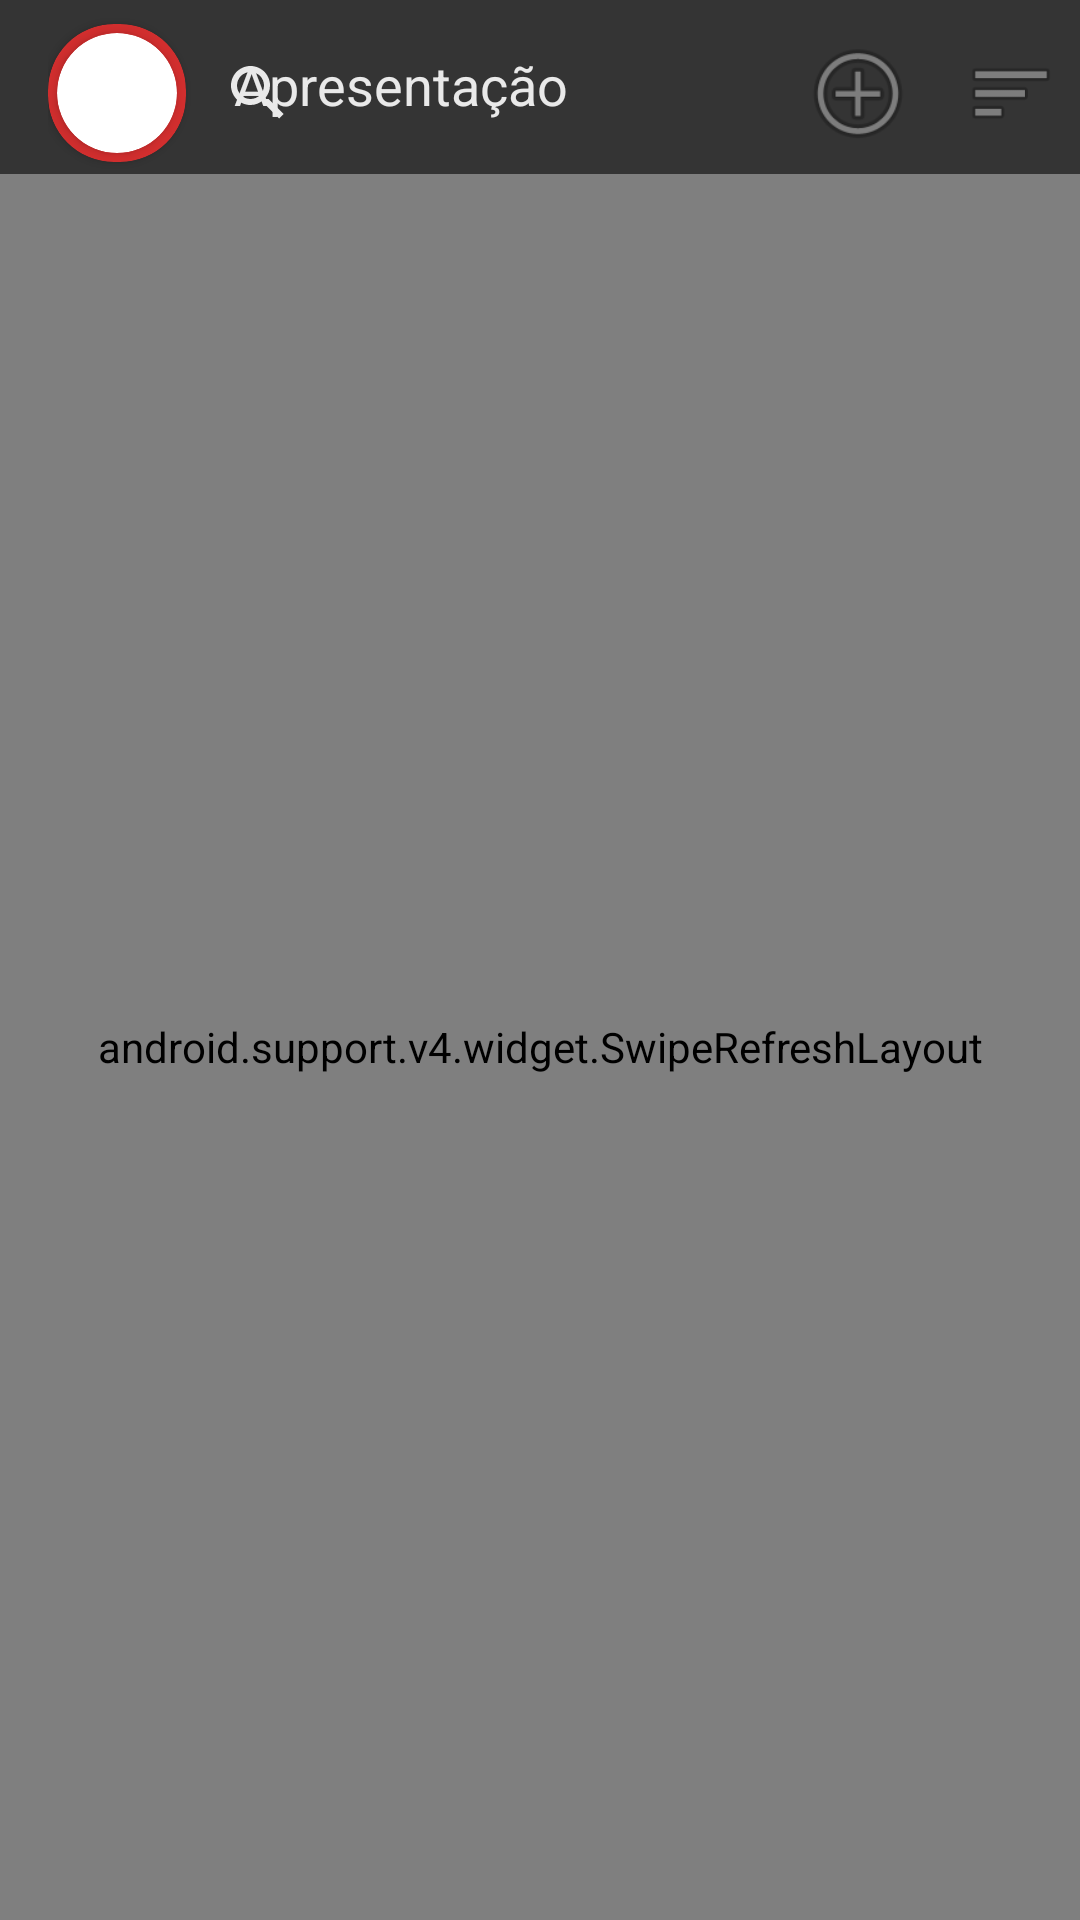

Point at icon controls on the screen. Image size 1080w x 1920h, points as (x=x, y=y).
add: (x=858, y=93)
sort by size: (x=1011, y=93)
